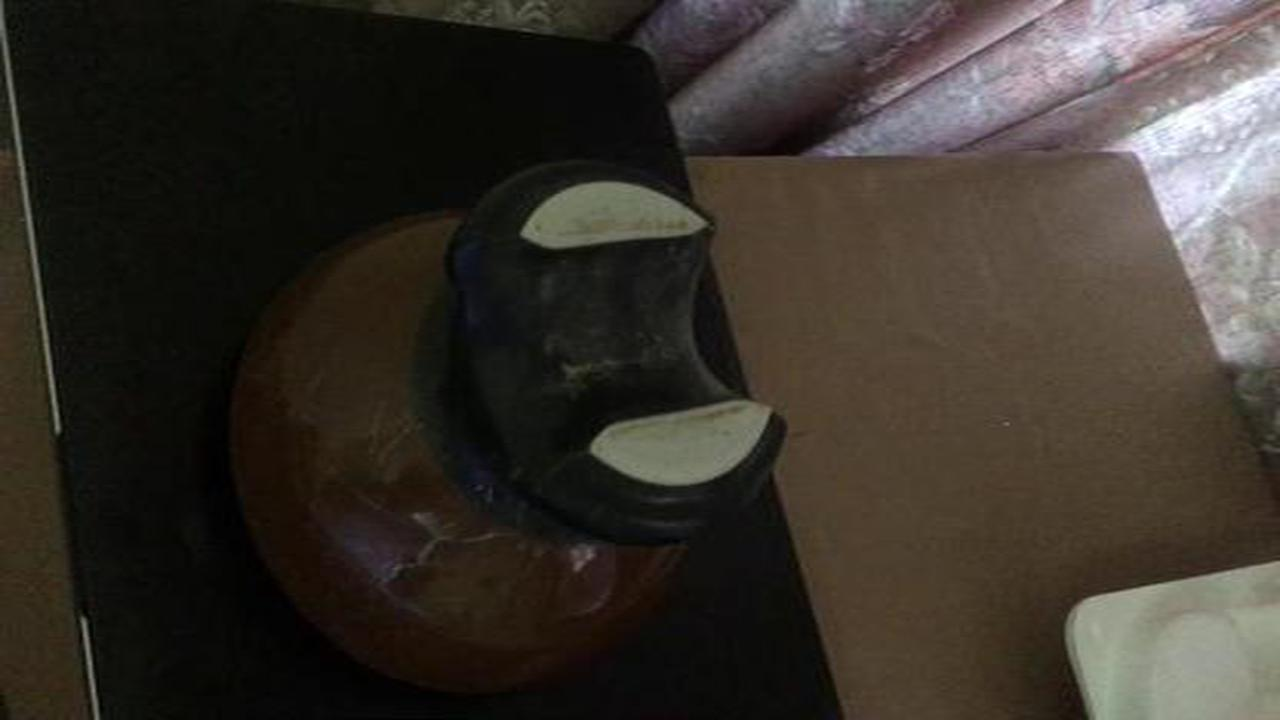insulator_pin: (201, 146, 813, 715)
